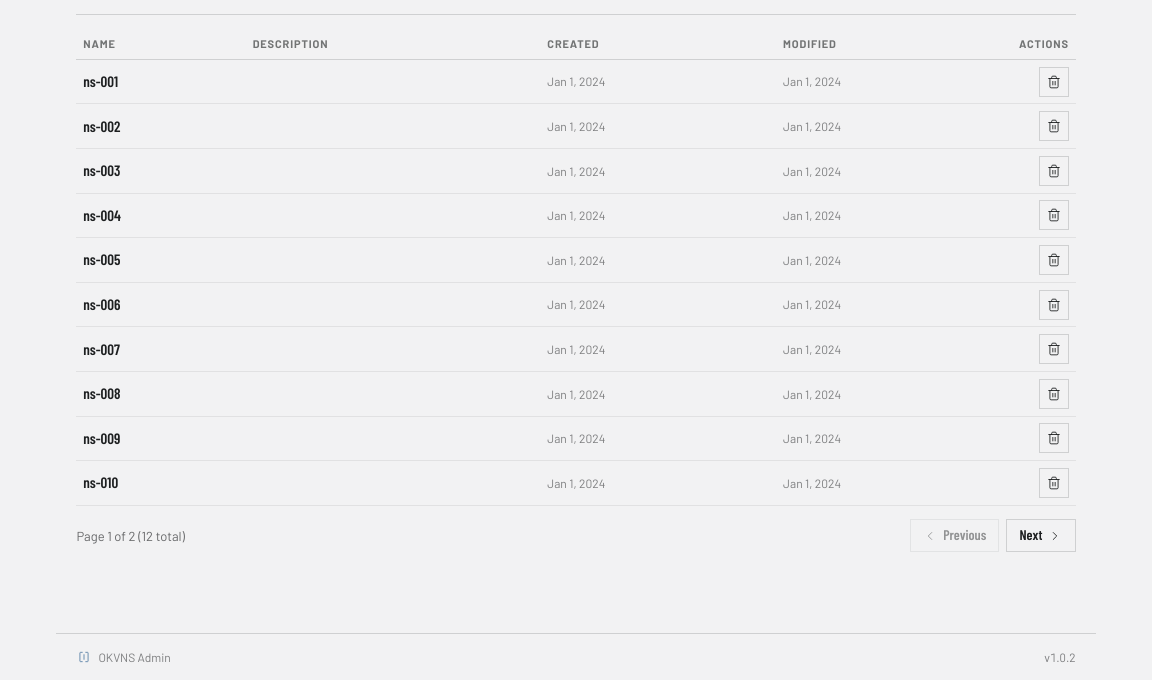
it: NamespacesPage list controls › navigates between pages, requesting each page from the API
(page scrolled)
Expected: the link "ns-001" is shown, [83,72,118,90]
Click the button with aria-label "Next page of namespaces" at x=1041, y=536, box [1006,519,1076,552]
(page scrolled)
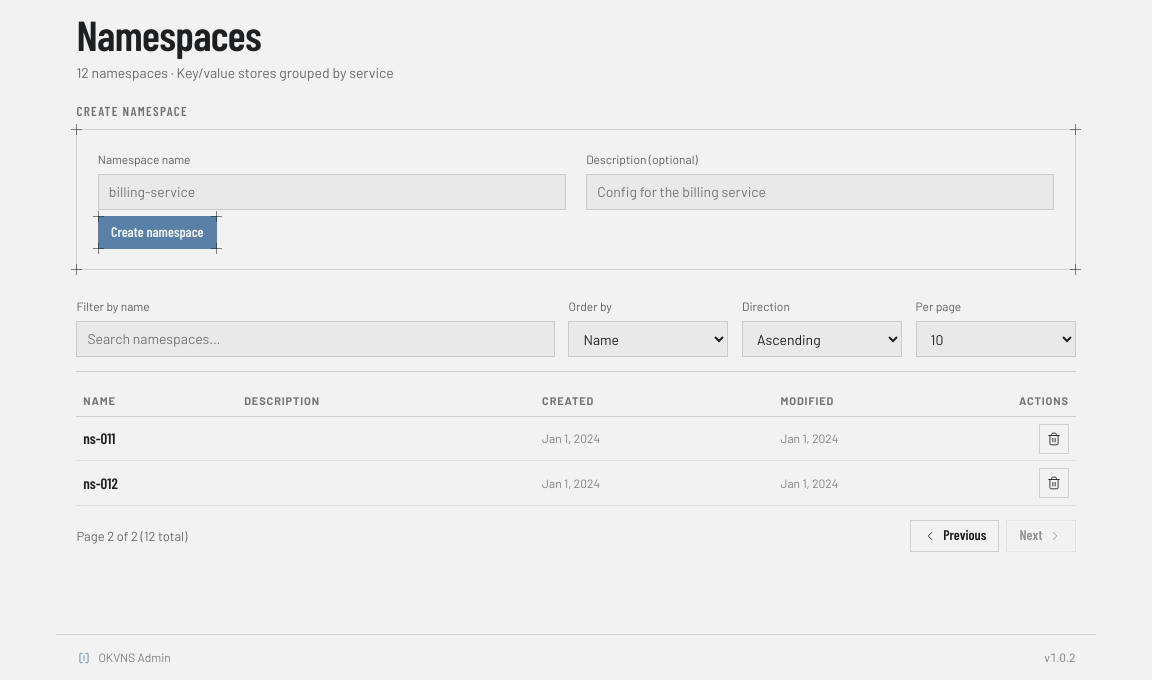
Now the link "ns-011" is shown, box [83,429,115,447]
Now the link "ns-001" is gone
